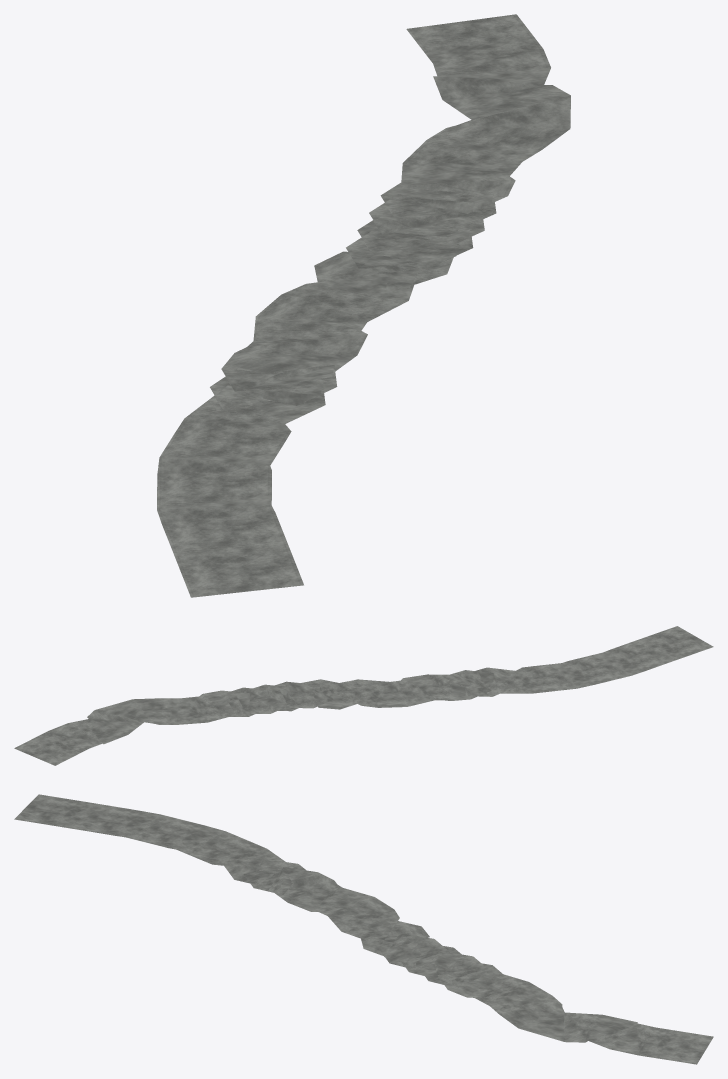
The model's file is RD-ROAD-012.obj.
3 renders of one model, top to bottom at view 1: azimuth 30°, elevation 25°; view 2: azimuth 150°, elevation 25°; view 3: azimuth 270°, elevation 25°, orthographic. The views are drawn at different scales.
Visible parts, largest first — view 1: RD-ROAD-012; view 2: RD-ROAD-012; view 3: RD-ROAD-012.
Part boxes in pixels (x1,y1,x2,y2): RD-ROAD-012: [157, 14, 570, 597]; RD-ROAD-012: [14, 626, 713, 765]; RD-ROAD-012: [14, 794, 713, 1064].
Bounding box in the file's own units: 36.86 × 1.06 × 42.28.
1 material, 1 textured.
